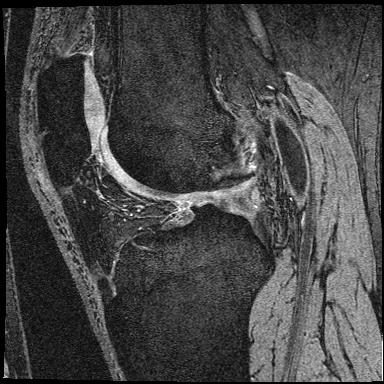SagKneeJointArea: (37, 53, 277, 282)
